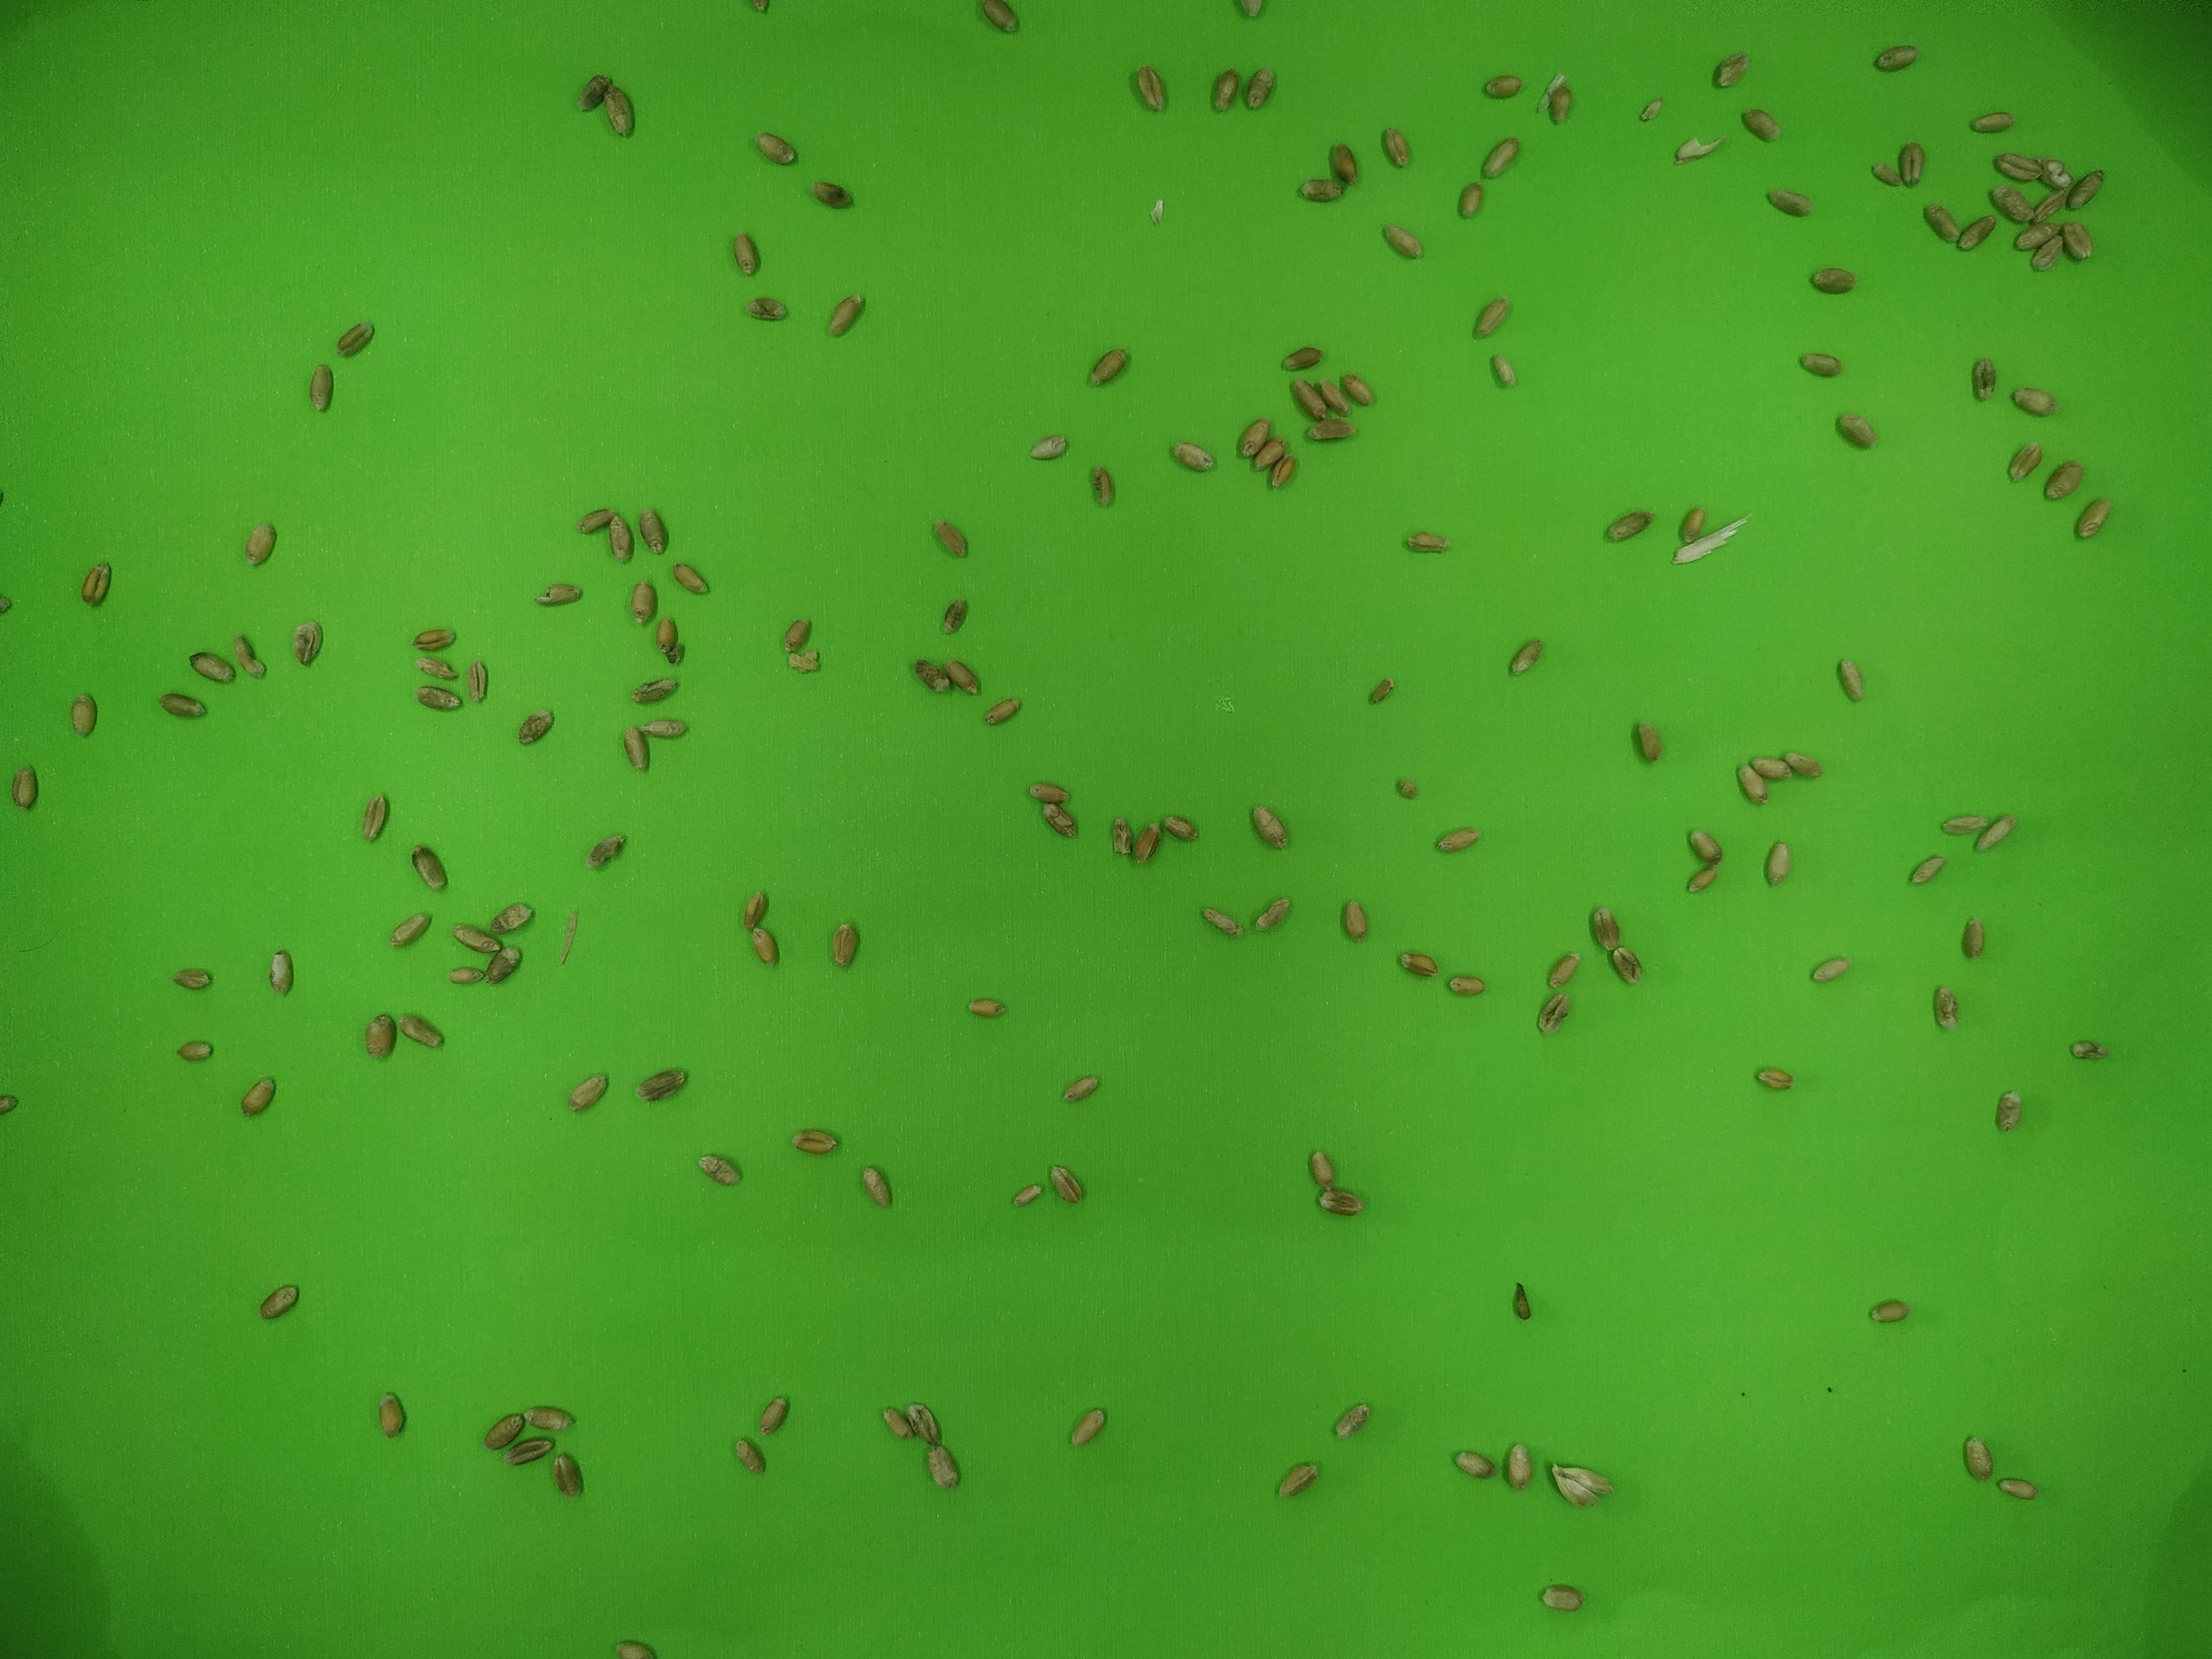bueno: (749, 128, 801, 168), (696, 1147, 743, 1191), (1129, 63, 1169, 114), (1987, 182, 2038, 222), (1206, 66, 1244, 117), (2056, 217, 2098, 263), (362, 1009, 398, 1063), (409, 681, 463, 717), (1500, 1439, 1535, 1495), (2071, 497, 2116, 540), (601, 84, 637, 137), (480, 942, 523, 986), (1833, 408, 1879, 450), (1479, 135, 1522, 179), (239, 518, 277, 567), (355, 791, 391, 843), (634, 507, 673, 554), (547, 1448, 584, 1498), (1449, 1446, 1500, 1482), (479, 1410, 526, 1448), (1684, 825, 1725, 869), (925, 1443, 962, 1491), (2042, 459, 2084, 501), (2002, 440, 2046, 482), (1379, 222, 1425, 261), (626, 575, 659, 628), (1243, 61, 1277, 112), (1961, 1432, 1995, 1484), (826, 291, 866, 335), (1537, 1580, 1590, 1614), (757, 1392, 792, 1441), (805, 176, 854, 212), (1472, 294, 1509, 340), (187, 649, 237, 684), (564, 1075, 611, 1112), (827, 921, 862, 971), (859, 1161, 894, 1211), (2008, 383, 2058, 418), (1588, 905, 1624, 953), (1058, 1070, 1104, 1107), (1762, 834, 1794, 889), (1764, 186, 1815, 219), (1292, 374, 1329, 420), (1330, 1400, 1373, 1441), (263, 946, 295, 999), (727, 227, 760, 279), (1734, 758, 1768, 808), (410, 842, 444, 893), (4, 766, 41, 813), (1275, 1460, 1322, 1496), (241, 1073, 276, 1120), (488, 899, 535, 935), (790, 1124, 841, 1157), (1991, 150, 2043, 182), (67, 690, 100, 740), (1923, 201, 1962, 244), (1250, 804, 1288, 848), (1893, 138, 1928, 185), (2009, 217, 2055, 253), (938, 658, 984, 693), (747, 922, 782, 968), (1126, 820, 1164, 864), (619, 720, 649, 773), (1994, 1084, 2026, 1135), (1603, 507, 1650, 541), (1543, 950, 1582, 990), (1170, 437, 1213, 474), (1738, 105, 1782, 142), (933, 516, 969, 560), (1796, 348, 1848, 379), (79, 560, 111, 609), (1395, 947, 1442, 980), (731, 1433, 766, 1477), (1254, 893, 1294, 932), (742, 291, 791, 324), (174, 1035, 218, 1070), (398, 1012, 440, 1049), (1400, 528, 1453, 557), (1503, 639, 1545, 676), (1533, 995, 1569, 1039), (1433, 825, 1483, 856), (1710, 52, 1751, 90), (1808, 264, 1859, 294), (1611, 943, 1646, 986), (1088, 347, 1129, 384), (877, 1404, 914, 1444), (1045, 1165, 1086, 1202), (1546, 80, 1579, 127), (979, 695, 1025, 728), (518, 1404, 572, 1432), (1337, 369, 1375, 408), (904, 1405, 942, 1444), (1379, 124, 1413, 168), (1198, 902, 1241, 937), (1071, 1406, 1107, 1448), (1318, 1185, 1364, 1217), (1633, 717, 1664, 765), (375, 1389, 405, 1439), (1023, 776, 1072, 806), (1906, 852, 1949, 886), (574, 503, 617, 537), (1956, 216, 1996, 252), (935, 595, 971, 635), (1328, 138, 1359, 186), (1022, 432, 1071, 462), (307, 361, 334, 415), (1484, 347, 1520, 389), (1267, 450, 1301, 492), (1237, 416, 1274, 456), (1807, 953, 1853, 985), (461, 658, 491, 706), (335, 321, 376, 356), (388, 912, 430, 947), (781, 612, 814, 656), (1753, 1061, 1795, 1095), (161, 687, 204, 722), (1479, 70, 1526, 101), (451, 921, 495, 953), (2065, 172, 2108, 206), (1304, 415, 1355, 444), (670, 560, 708, 598), (1995, 1474, 2041, 1505), (966, 992, 1006, 1027), (1865, 1298, 1913, 1328), (2066, 1034, 2114, 1064), (1087, 462, 1117, 510), (1454, 178, 1487, 221), (1280, 343, 1326, 374), (608, 514, 634, 566), (1968, 107, 2017, 135), (1837, 656, 1865, 705), (1975, 815, 2015, 850), (740, 886, 769, 935), (1872, 44, 1922, 72), (260, 1285, 298, 1321), (2034, 156, 2074, 191), (634, 714, 685, 742), (977, 0, 1019, 33), (1677, 502, 1710, 544), (171, 963, 215, 994), (1157, 811, 1201, 842), (576, 74, 613, 111), (1009, 1176, 1046, 1213), (1340, 895, 1368, 943), (1441, 972, 1487, 1000), (1749, 750, 1790, 782), (1934, 812, 1988, 836), (1960, 914, 1987, 961), (1307, 1147, 1337, 1191), (1253, 436, 1288, 471), (504, 1436, 546, 1465), (441, 962, 486, 989), (1684, 863, 1724, 894), (2031, 238, 2068, 271), (413, 625, 457, 653), (1781, 752, 1824, 780), (1319, 379, 1349, 419), (609, 1634, 656, 1659), (654, 615, 679, 655), (1868, 161, 1901, 189), (1231, 0, 1267, 23)
danado: (288, 613, 324, 666), (1038, 801, 1083, 843), (1929, 982, 1963, 1036), (585, 831, 630, 869), (534, 579, 587, 610), (637, 1067, 686, 1099), (910, 659, 954, 693), (2030, 186, 2073, 221), (518, 706, 553, 747), (413, 651, 458, 684), (1969, 354, 1998, 403), (630, 677, 677, 704), (1108, 815, 1133, 854)
impureza: (1673, 514, 1749, 564), (1550, 1462, 1616, 1510), (1671, 132, 1730, 164), (232, 635, 270, 682), (1295, 176, 1348, 203), (1536, 71, 1568, 114), (557, 907, 582, 964), (782, 647, 827, 677), (1509, 1277, 1535, 1323), (1363, 675, 1396, 705), (1638, 96, 1664, 122), (1148, 196, 1167, 227), (1397, 778, 1421, 802)
